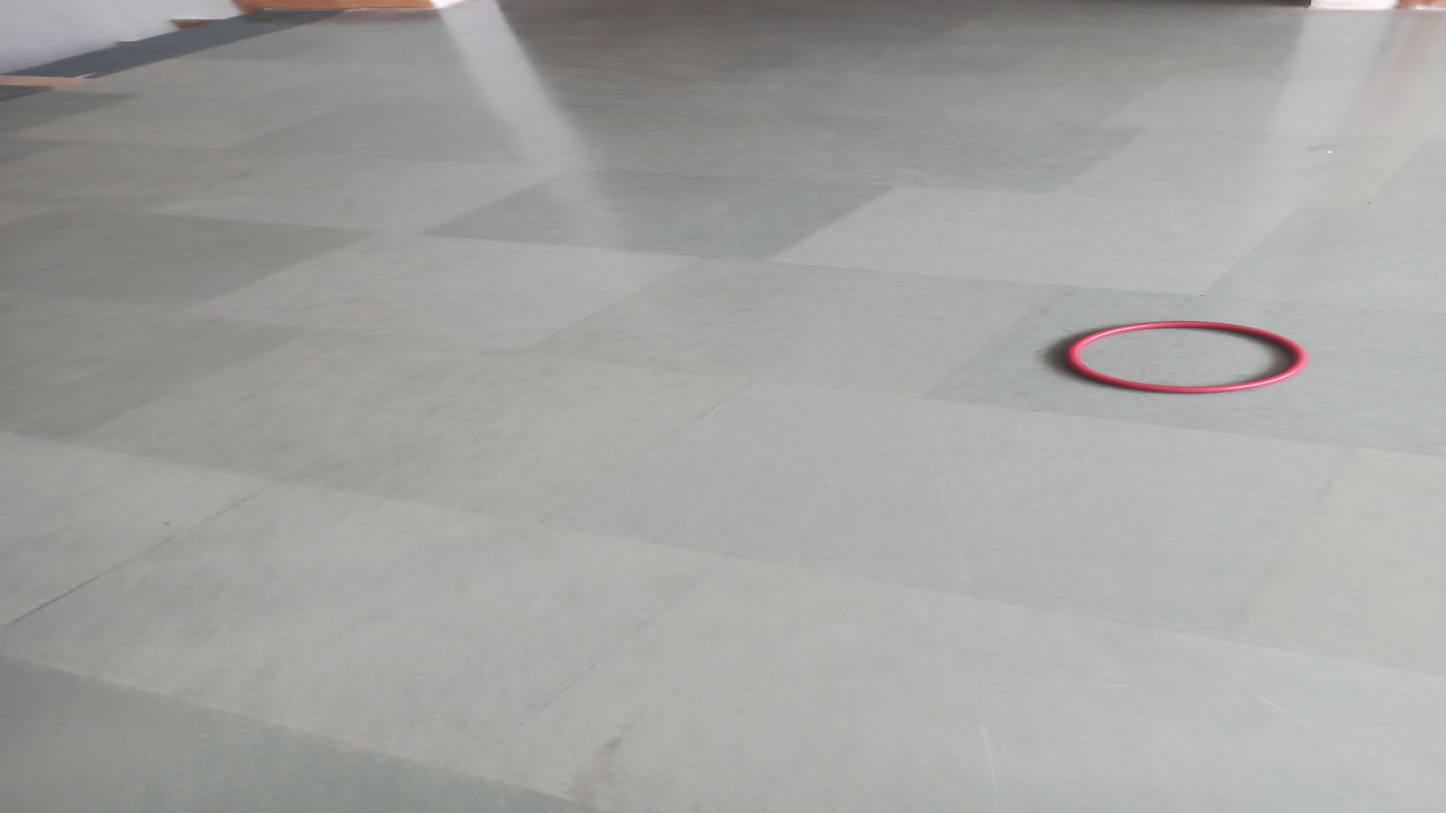Red ring: (1062, 320, 1310, 397)
